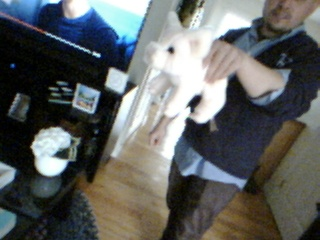piggy: (142, 9, 228, 125)
